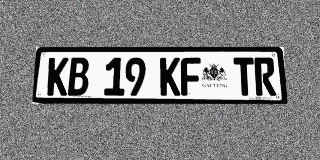1: (104, 57, 125, 96)
9: (125, 57, 146, 96)
B: (68, 58, 89, 96)
F: (181, 57, 201, 96)
K: (47, 58, 69, 96), (160, 57, 180, 96)
R: (254, 57, 276, 96)
T: (233, 57, 255, 96)
